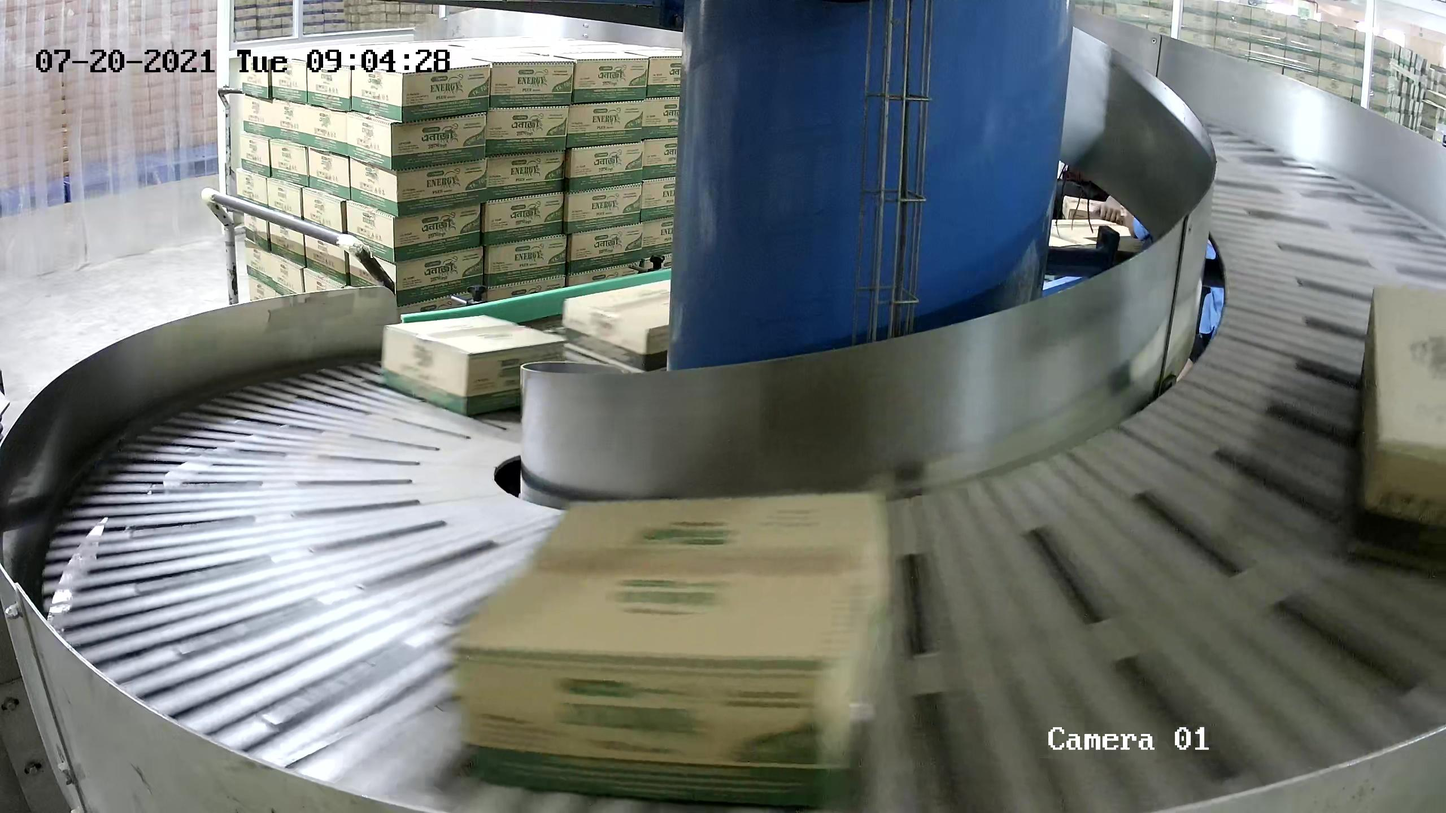Box: (443, 483, 904, 813), (1348, 280, 1446, 576), (378, 312, 568, 418), (561, 276, 670, 372)
